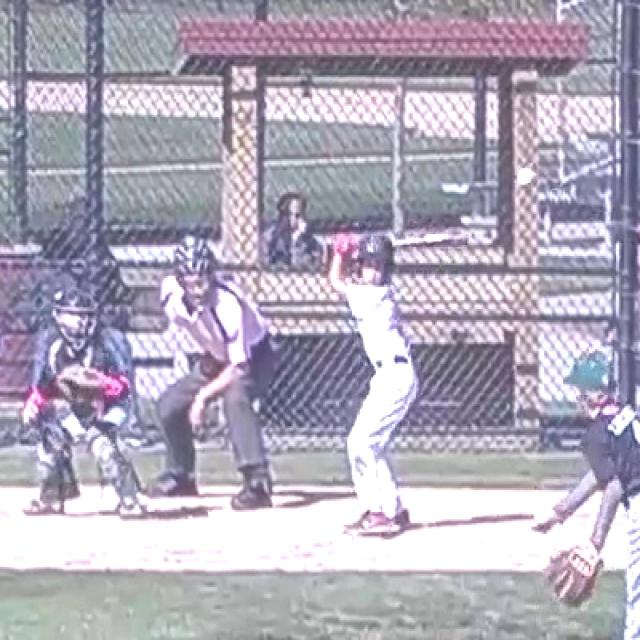baseball: (519, 169, 535, 185)
